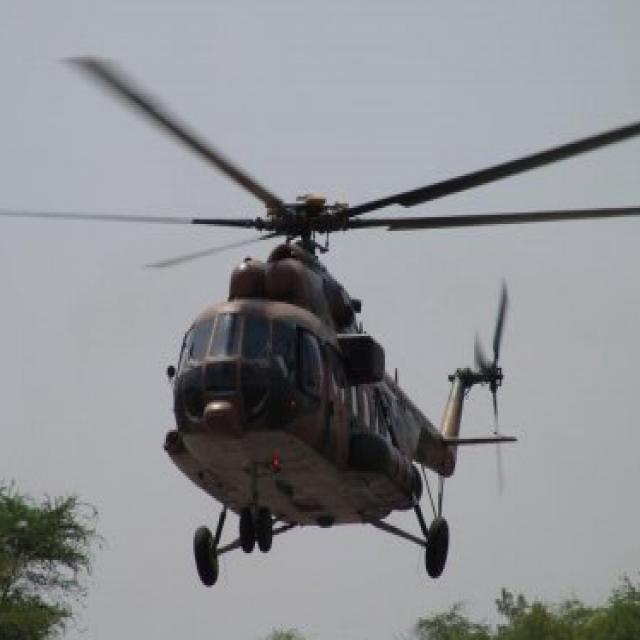helicopter: (40, 58, 640, 577)
